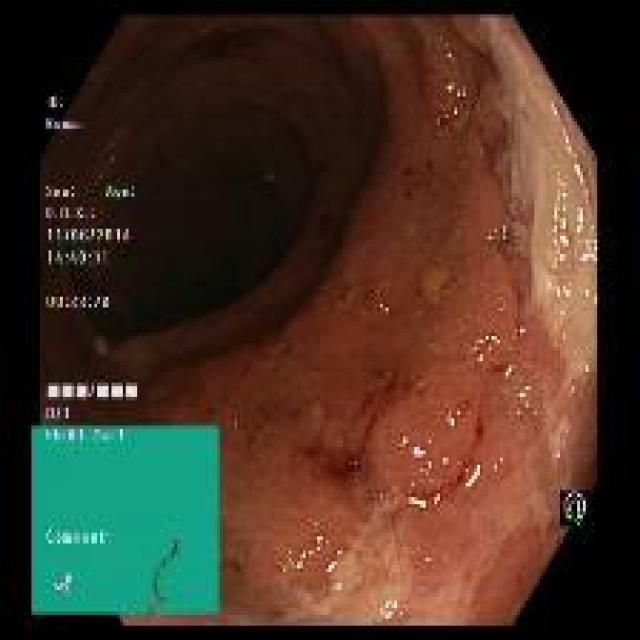ulcerative-colitis: (124, 19, 596, 624)
